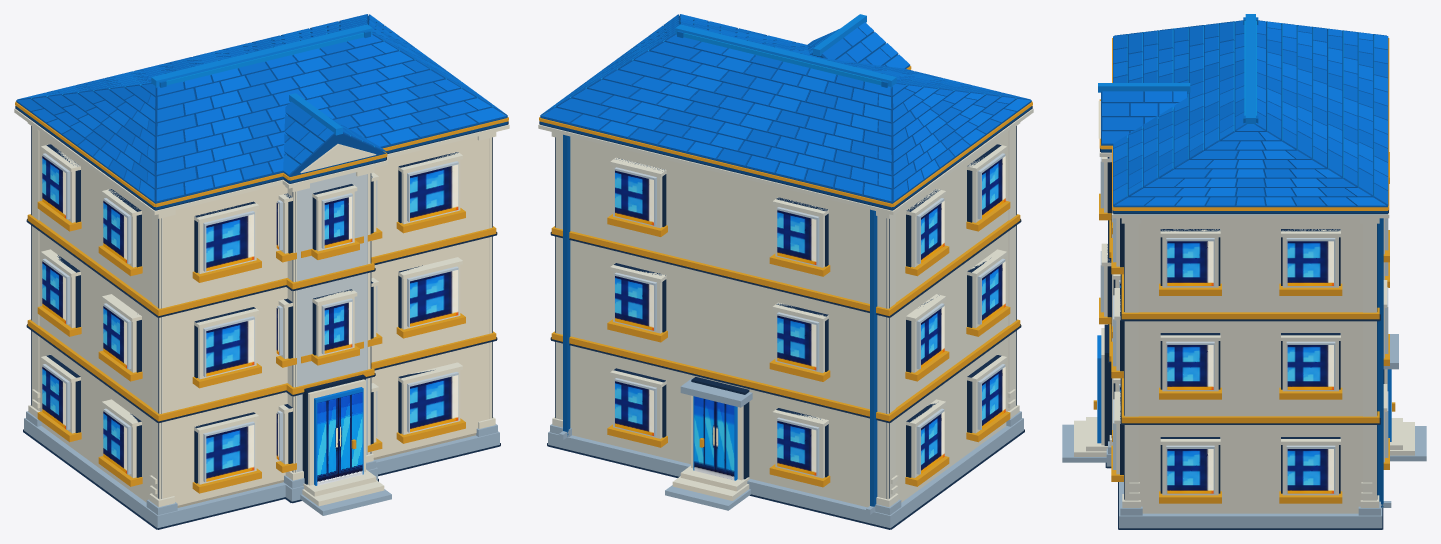
The picture shows the model from 3 angles, left to right: view 1: azimuth 30°, elevation 25°; view 2: azimuth 150°, elevation 25°; view 3: azimuth 270°, elevation 25°; orthographic projection.
Parts seen in each view (by area): view 1: A01 蓝顶中门公寓; view 2: A01 蓝顶中门公寓; view 3: A01 蓝顶中门公寓.
Boxes of the visible parts, box(x1,y1,x2,y2) form: A01 蓝顶中门公寓: box(14, 14, 509, 529); A01 蓝顶中门公寓: box(538, 14, 1033, 529); A01 蓝顶中门公寓: box(1062, 14, 1426, 529).
Bounding box in the file's own units: 7.84 × 8.13 × 7.05.
Materials: 2 (1 with a texture image).
